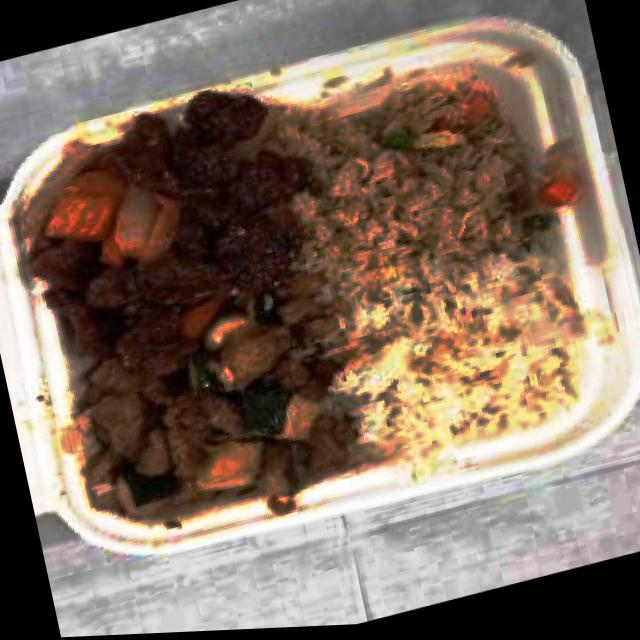Beijing Beef: (24, 85, 302, 359)
Fried Rice: (300, 66, 530, 278)
Kung Pao Chicken: (87, 304, 317, 517)
rice: (336, 231, 572, 459)
